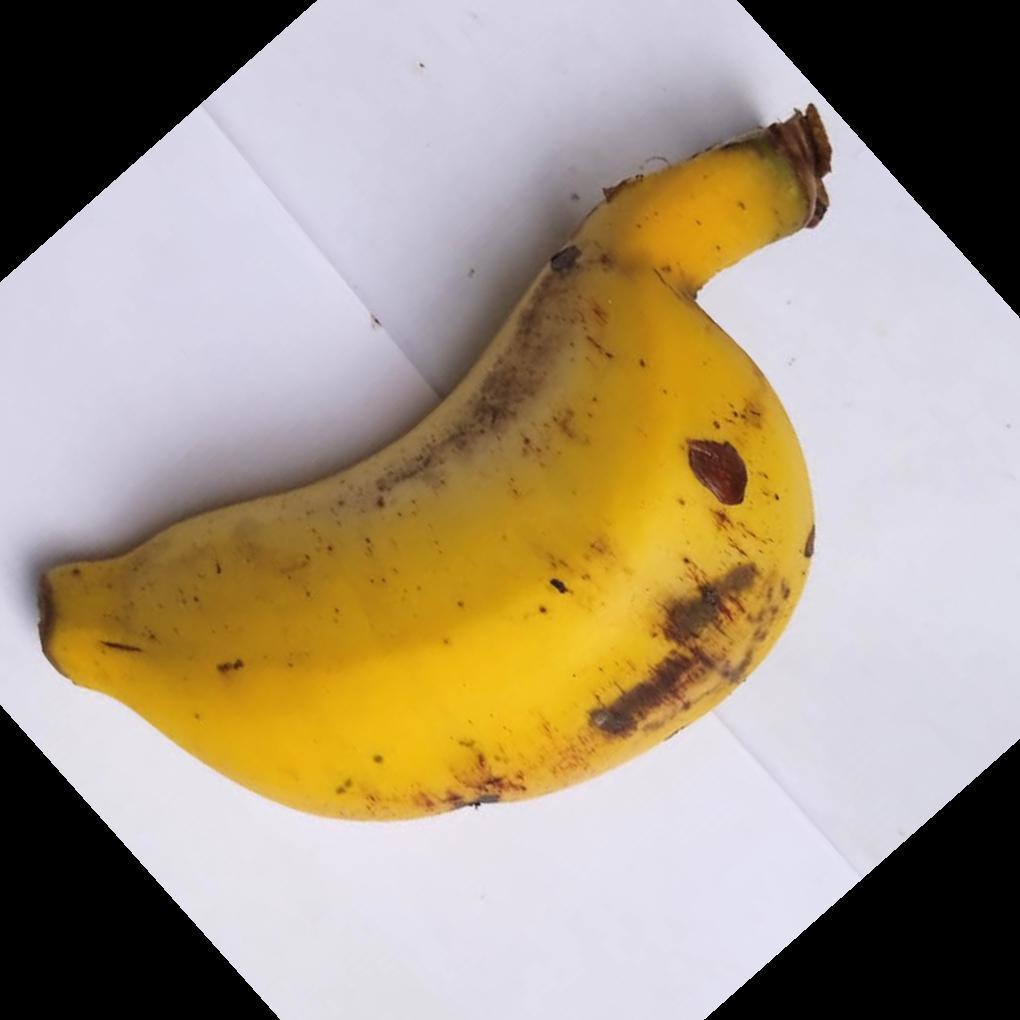Banana Ripe: (38, 156, 860, 826)
